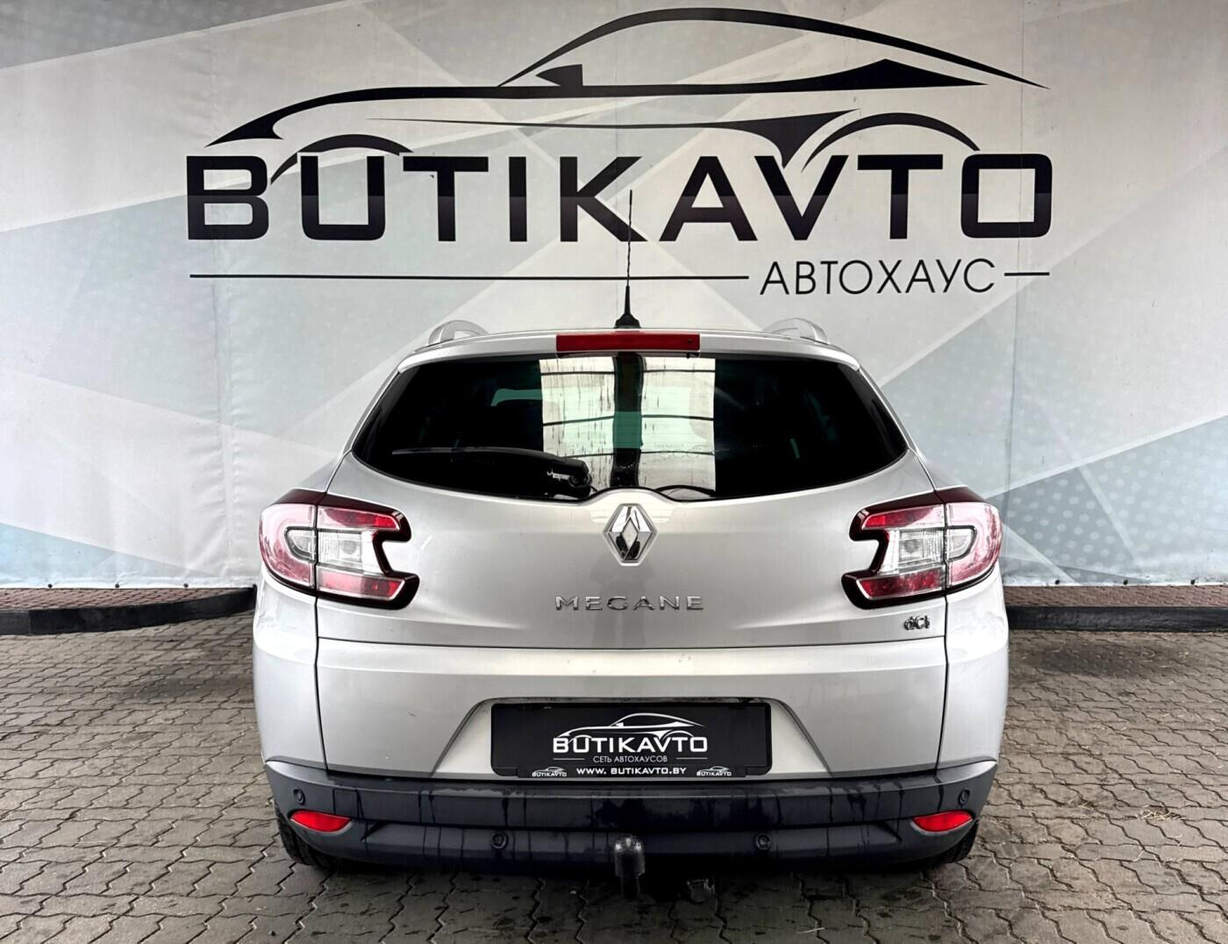Megane_2014-2016: (247, 322, 1020, 897)
